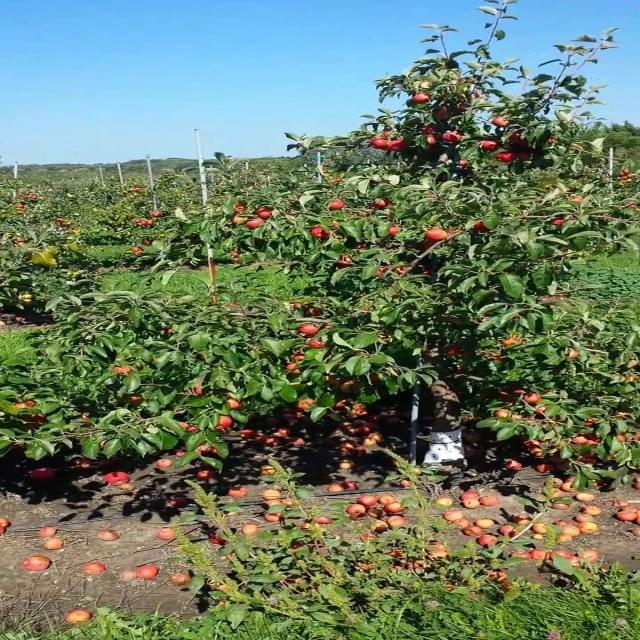apple: (291, 301, 322, 316), (289, 301, 322, 315), (20, 414, 47, 430), (338, 379, 360, 394), (424, 228, 449, 241), (509, 131, 529, 146), (500, 335, 527, 346), (298, 322, 320, 335), (509, 132, 529, 146), (387, 138, 407, 151), (216, 415, 233, 430), (244, 218, 267, 229), (411, 92, 431, 104), (309, 226, 329, 238), (522, 392, 542, 404), (444, 344, 464, 356), (296, 398, 316, 410), (491, 115, 509, 128), (256, 206, 273, 219), (336, 255, 353, 268), (442, 131, 462, 142), (496, 151, 516, 162), (369, 138, 389, 149), (480, 140, 500, 151), (302, 305, 322, 316), (122, 394, 144, 404), (473, 220, 491, 232), (418, 239, 436, 251), (284, 362, 302, 374), (13, 400, 36, 409), (178, 421, 198, 431), (111, 365, 133, 374), (80, 412, 93, 427), (433, 108, 449, 120), (327, 199, 344, 210), (493, 409, 511, 419), (371, 199, 389, 209), (322, 375, 342, 384), (571, 435, 589, 445), (584, 432, 600, 443), (387, 225, 402, 236), (393, 266, 411, 275), (484, 353, 504, 361), (516, 151, 531, 161), (307, 339, 322, 349), (231, 215, 247, 224), (522, 440, 540, 448), (613, 410, 631, 418), (567, 348, 580, 359), (376, 266, 389, 277), (422, 125, 436, 135), (233, 202, 247, 212), (447, 226, 462, 235), (191, 386, 204, 396), (427, 135, 438, 146), (228, 398, 240, 408), (307, 308, 322, 316), (582, 418, 596, 426), (551, 218, 564, 226), (549, 441, 562, 449), (536, 405, 547, 414), (291, 354, 304, 361), (356, 242, 369, 249), (616, 434, 627, 442), (380, 129, 391, 137), (547, 136, 558, 144), (162, 328, 176, 334), (370, 374, 380, 382), (498, 390, 509, 397), (98, 440, 107, 447), (324, 322, 333, 328)
